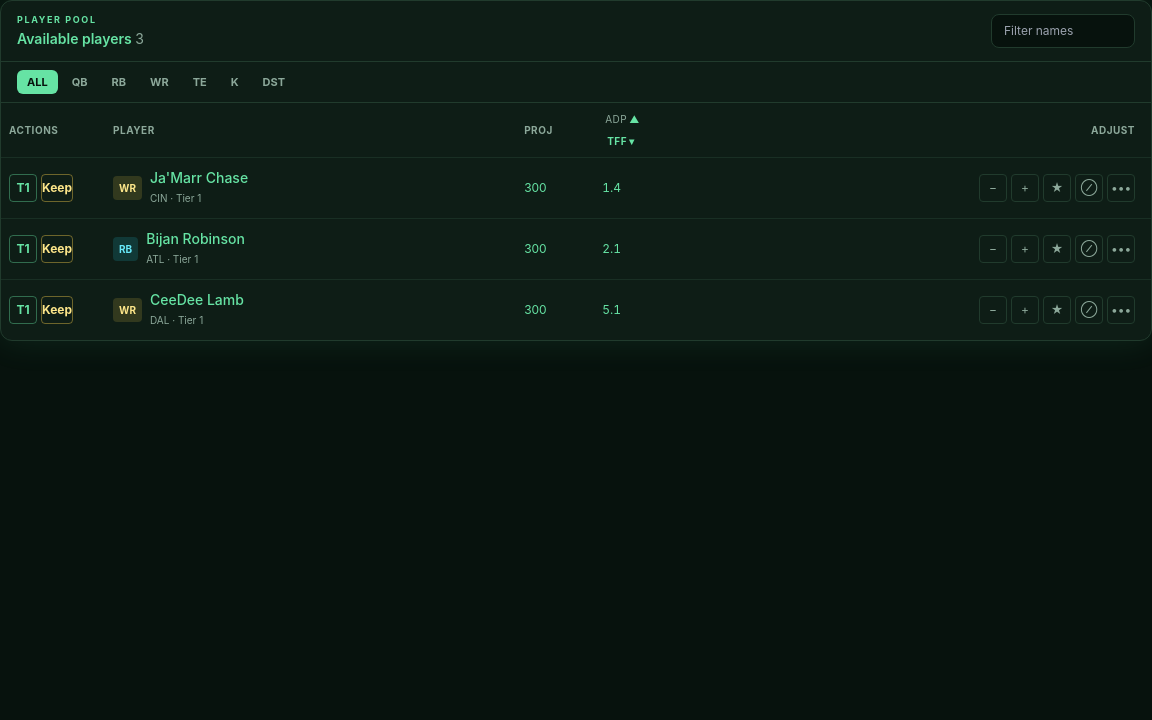
player pool draft button › places a keeper on the chosen team and leaves the draft clock at pick 1
Click the button with aria-label "Keep Ja'Marr Chase": x=57, y=188 [41,174,73,202]
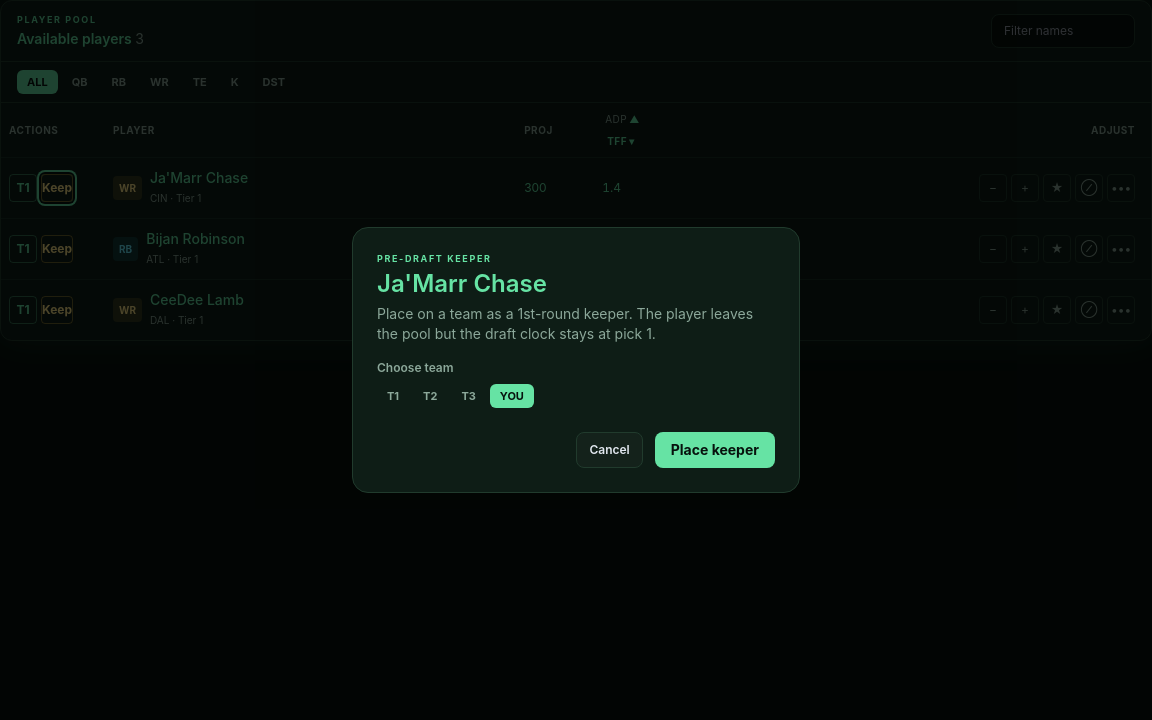
Click the button "YOU": x=512, y=396 [490,384,534,408]
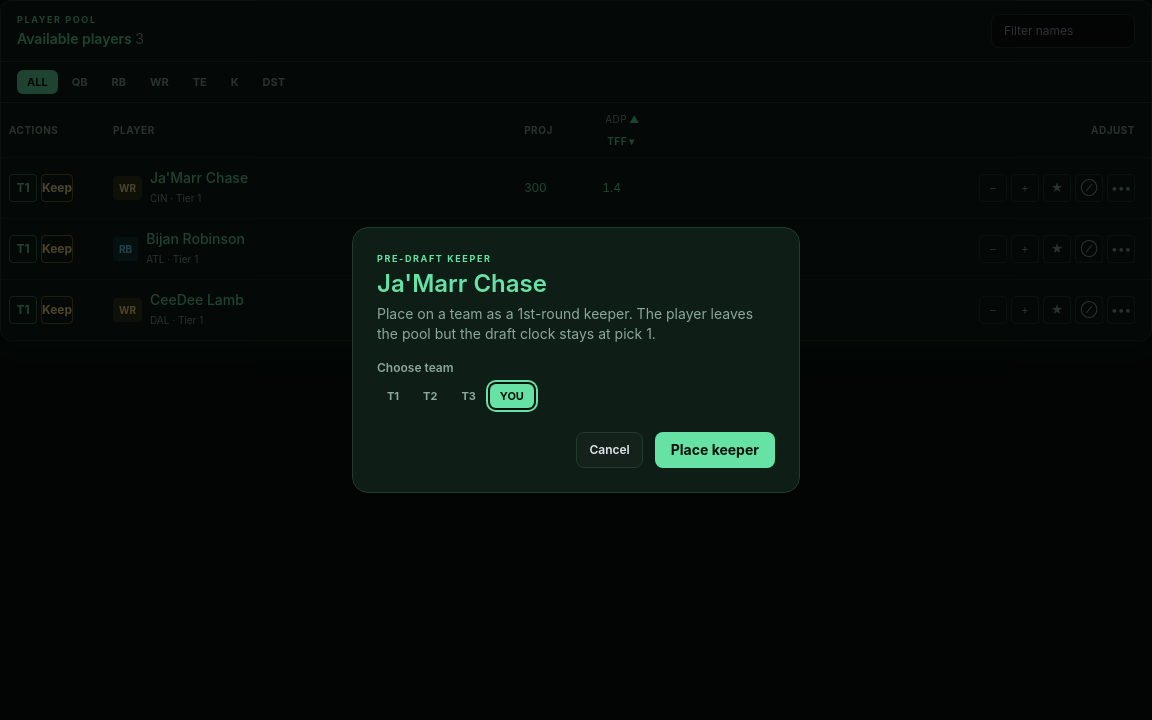
Click the button "Place keeper": x=715, y=450 [655,432,775,468]
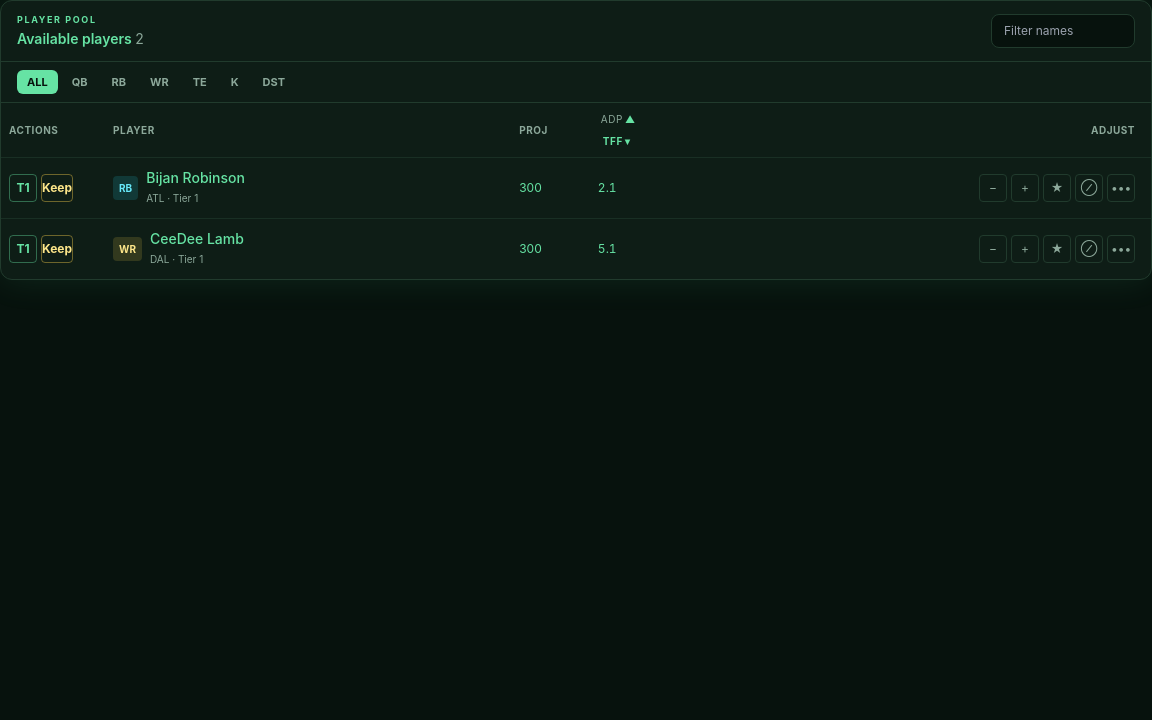
Check: the text "Ja'Marr Chase" is gone
Check: the number of buttons "T1" is 2, box [9,174,37,202]; [9,235,37,263]
